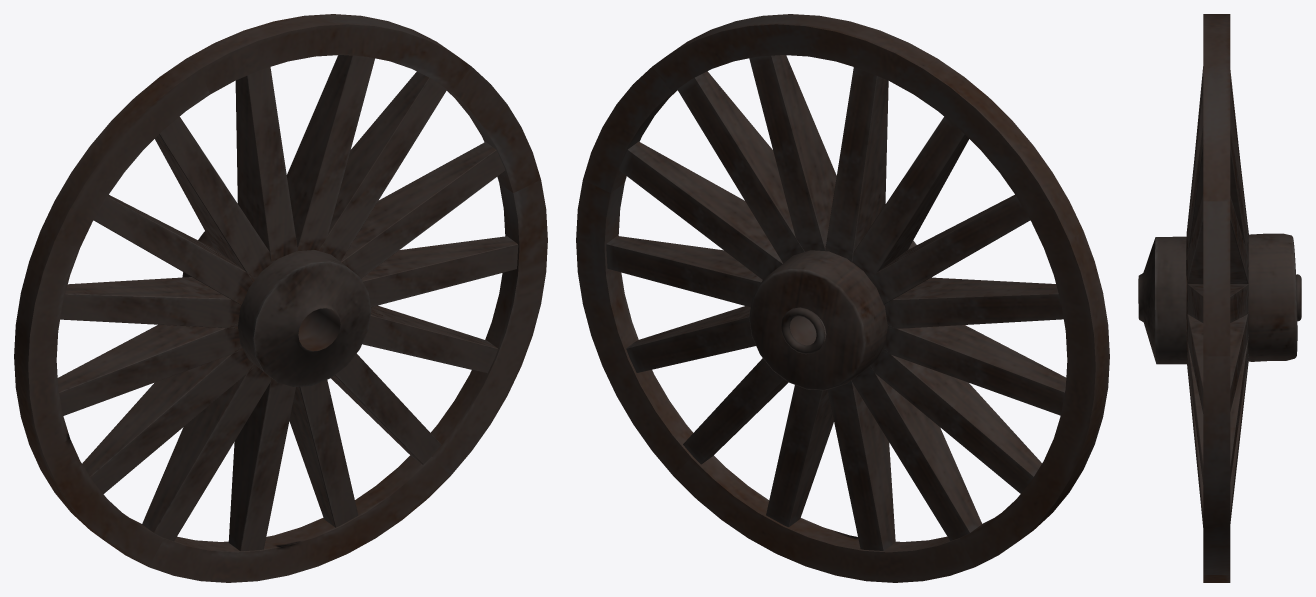
Rendered from SM_Hwacha_Wheel.FBX.
3 renders of one model, left to right at view 1: azimuth 30°, elevation 25°; view 2: azimuth 150°, elevation 25°; view 3: azimuth 270°, elevation 25°, orthographic. The views are drawn at different scales.
Parts seen in each view (by area): view 1: SM_Hwacha_Wheel; view 2: SM_Hwacha_Wheel; view 3: SM_Hwacha_Wheel.
Boxes of the visible parts, box(x1,y1,x2,y2) form: SM_Hwacha_Wheel: box(14, 14, 547, 582); SM_Hwacha_Wheel: box(576, 14, 1109, 582); SM_Hwacha_Wheel: box(1138, 14, 1301, 582).
Bounding box in the file's own units: 87.4 × 25.06 × 87.4.
